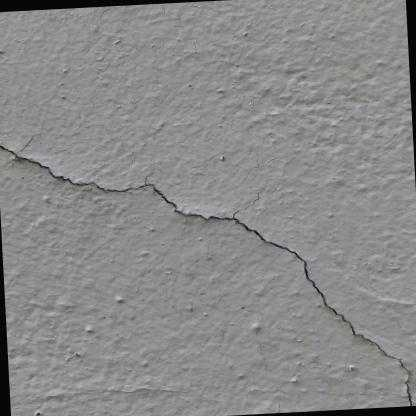crack: (0, 138, 416, 405)
